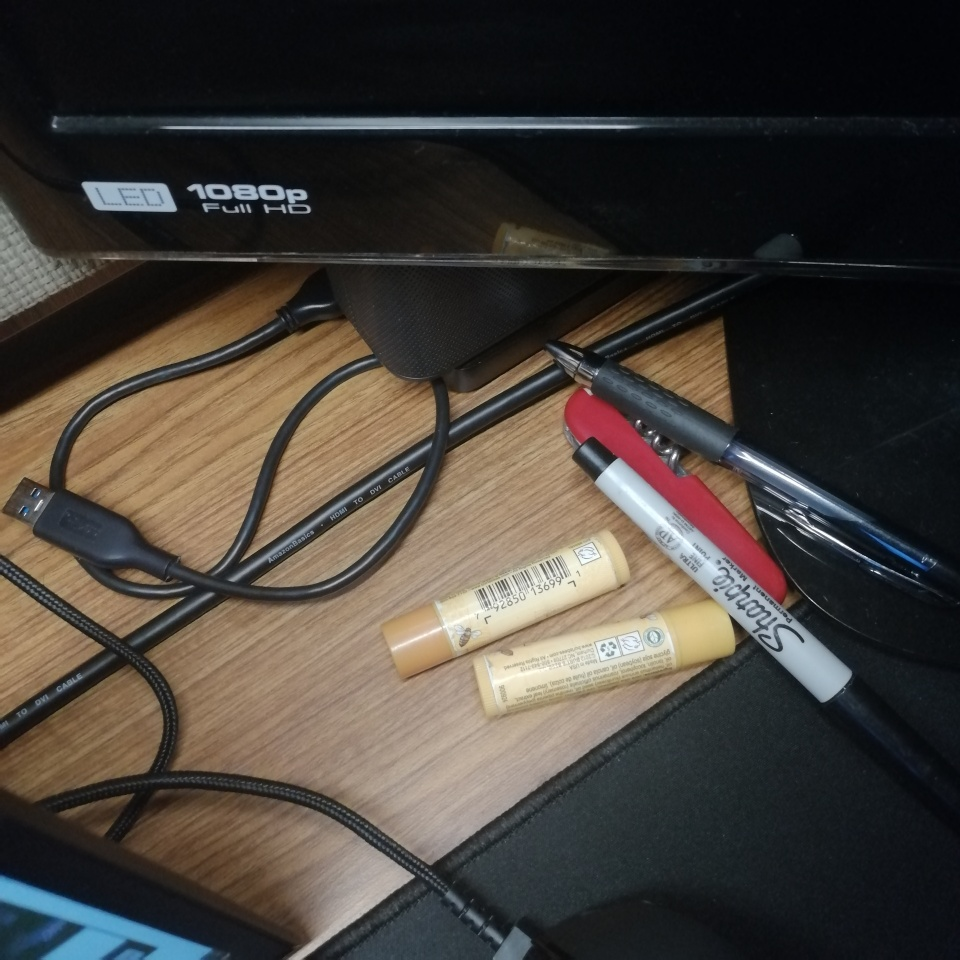chapstick: (378, 528, 631, 682), (474, 600, 737, 715)
